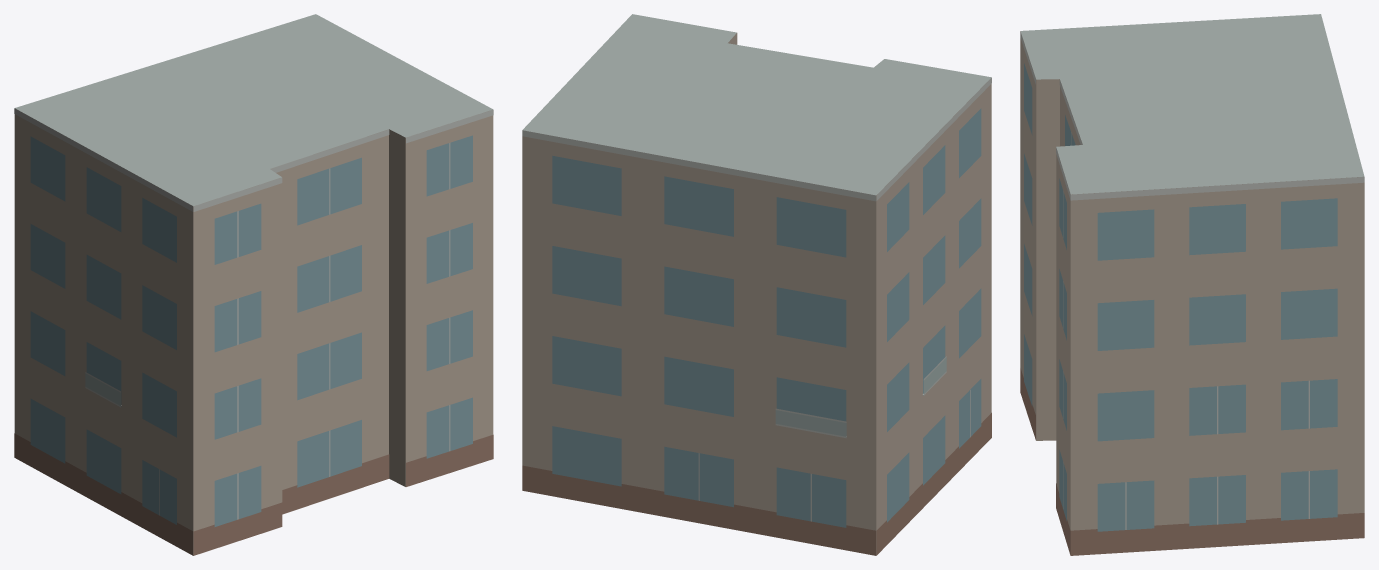
Rendered from survey-upis-32532707.glb.
3 renders of one model, left to right at view 1: azimuth 30°, elevation 25°; view 2: azimuth 150°, elevation 25°; view 3: azimuth 270°, elevation 25°, orthographic. The views are drawn at different scales.
Parts seen in each view (by area): view 1: survey-upis-32532707.tmp; view 2: survey-upis-32532707.tmp; view 3: survey-upis-32532707.tmp.
Boxes of the visible parts, x1,y1,x2,y2 form: survey-upis-32532707.tmp: (14,14,493,555); survey-upis-32532707.tmp: (522,14,991,555); survey-upis-32532707.tmp: (1020,14,1364,555).
Size of the model in its own units: 15.6 by 14.55 by 12.57.
